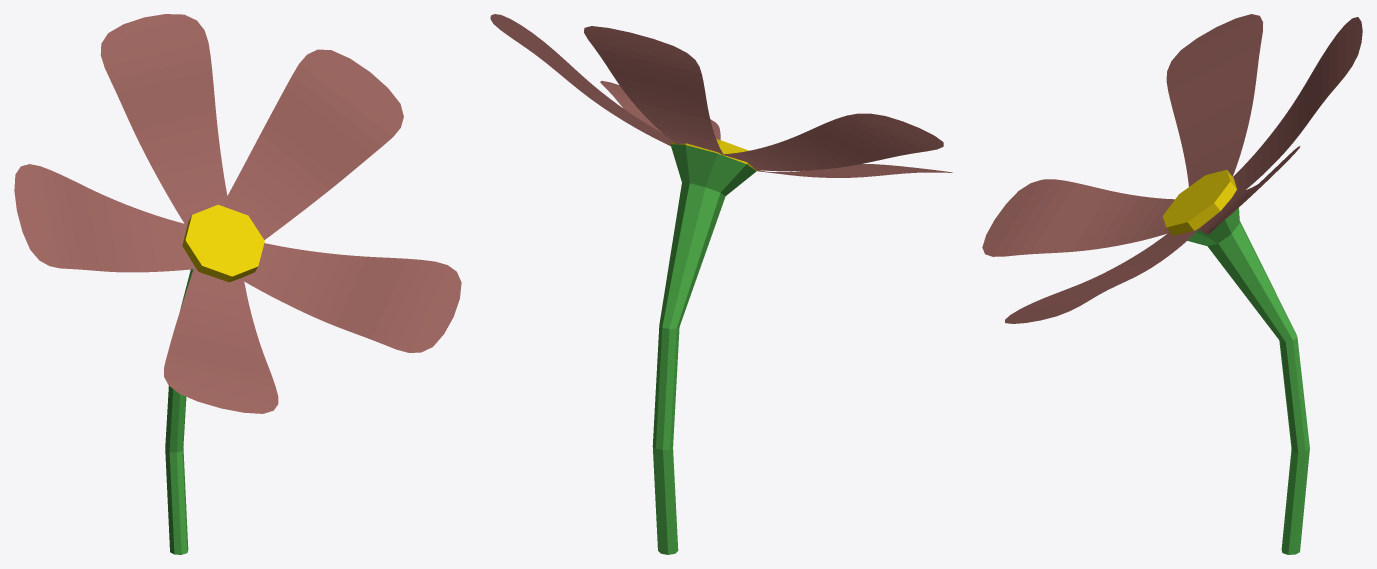
The model's file is IsometricTile_Light_Flower.fbx.
3 views of the same model, side by side, from view 1: azimuth 30°, elevation 25°; view 2: azimuth 150°, elevation 25°; view 3: azimuth 270°, elevation 25° (orthographic). The views are drawn at different scales.
Parts seen in each view (by area): view 1: Cylinder.001; view 2: Cylinder.001; view 3: Cylinder.001.
Part boxes in pixels (x1,y1,x2,y2): Cylinder.001: [14, 14, 461, 554]; Cylinder.001: [490, 14, 952, 554]; Cylinder.001: [982, 14, 1362, 554].
Bounding box in the file's own units: 0.2457 × 0.2003 × 0.3022.
